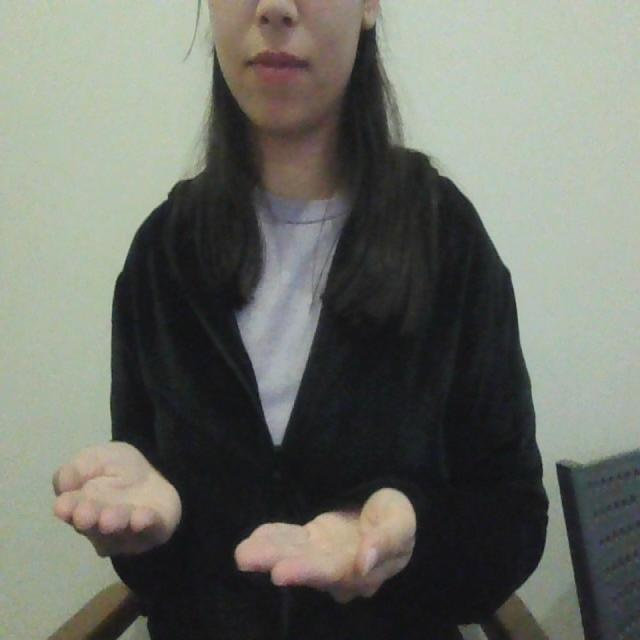Evet: (44, 432, 424, 609)
